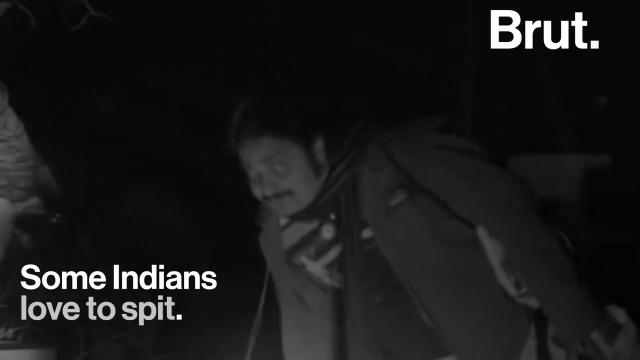spit: (230, 107, 327, 360)
